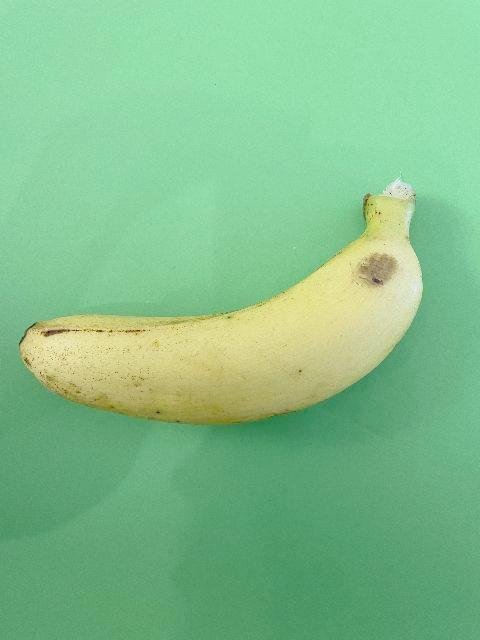banana: (15, 175, 426, 428)
